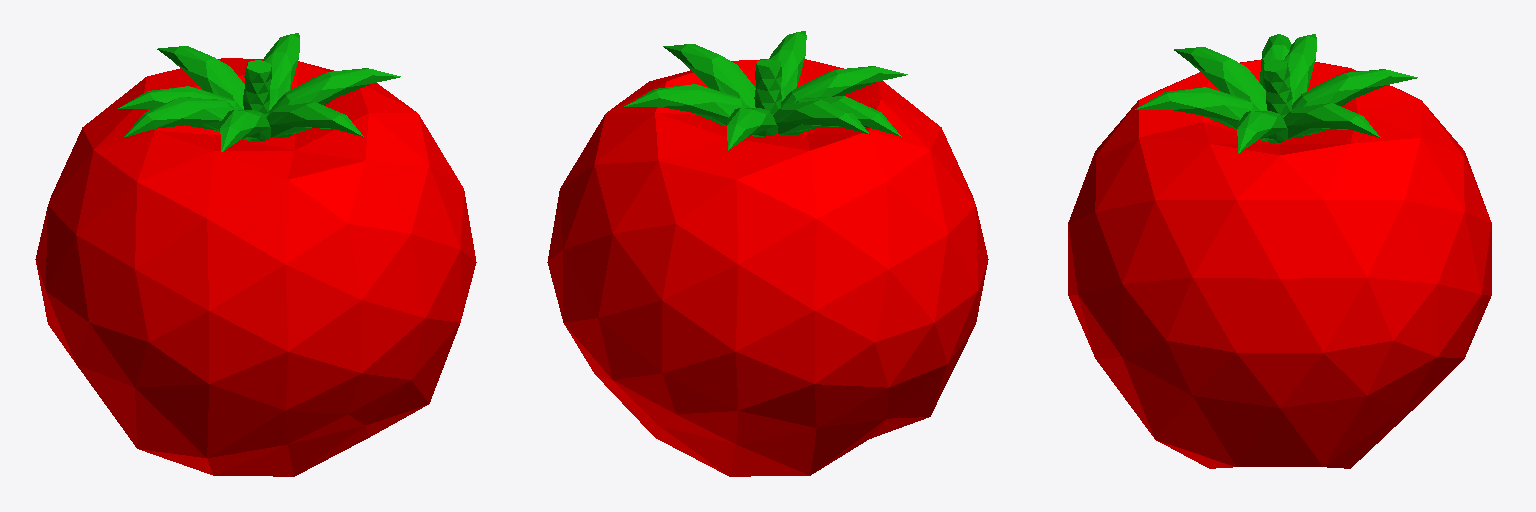
Rendered from tomato_smooth.obj.
The picture shows the model from 3 angles: view 1: azimuth 30°, elevation 25°; view 2: azimuth 150°, elevation 25°; view 3: azimuth 270°, elevation 25°; orthographic projection.
Parts seen in each view (by area): view 1: TomatoSmooth; view 2: TomatoSmooth; view 3: TomatoSmooth.
Boxes of the visible parts, <box> form: TomatoSmooth: <box>35,33,476,476</box>; TomatoSmooth: <box>547,31,988,476</box>; TomatoSmooth: <box>1068,34,1491,468</box>.
Size of the model in its own units: 226 by 220 by 219.